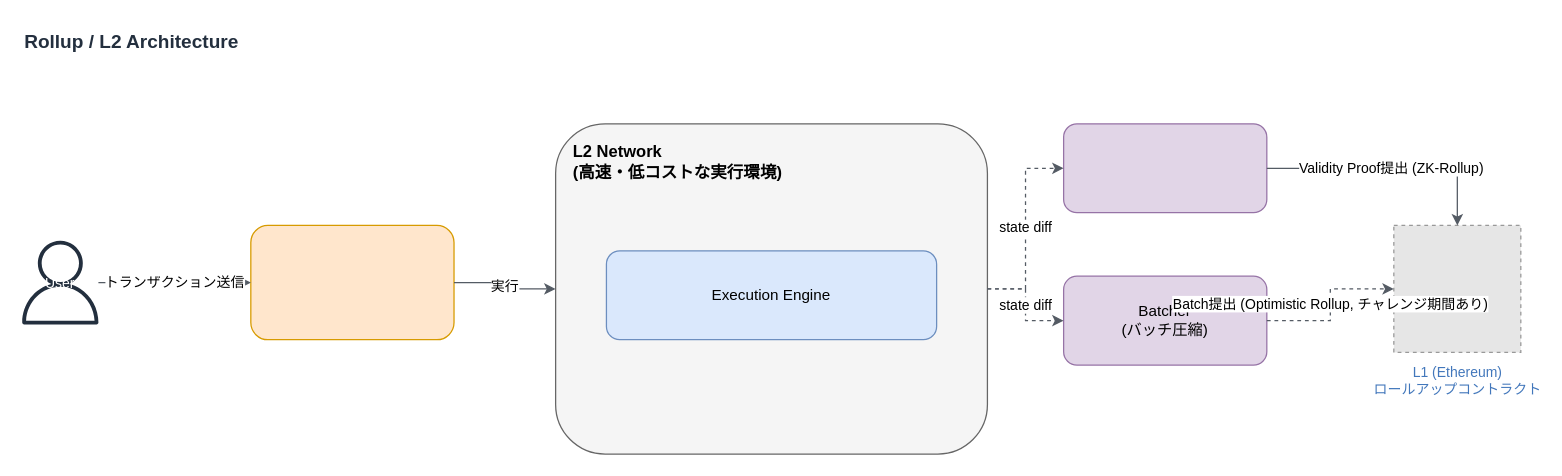
The diagram is 1562 pixels wide and 476 high, and some of its shapes have lost their labels. Grey dashed boxes stand in for pictures. The shapes that lost their labels are listed below. From the top down, each one's centre as x and y in pixels, then its label:
the point at 1164,168: Prover (ZK Proof生成)
the point at 352,282: Sequencer (トランザクション順序決定)
